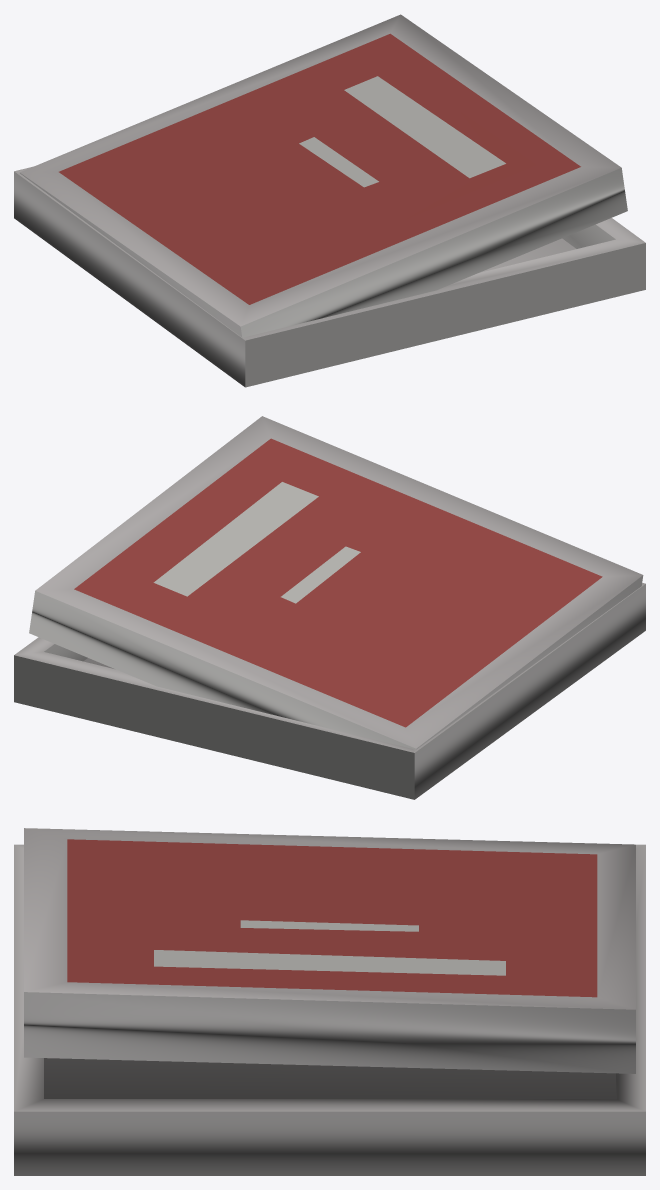
File: apoc_prop_37.glb
3 views of the same model, one above another, from view 1: azimuth 30°, elevation 25°; view 2: azimuth 150°, elevation 25°; view 3: azimuth 270°, elevation 25° (orthographic). The views are drawn at different scales.
Visible parts, largest first — view 1: prop_039; view 2: prop_039; view 3: prop_039.
Part boxes in pixels (box(x1,y1,x2,y2)): prop_039: box(14, 14, 645, 387); prop_039: box(14, 416, 645, 799); prop_039: box(14, 828, 645, 1175).
Bounding box in the file's own units: 0.0998 × 0.0296 × 0.0995.
1 material, 1 textured.
